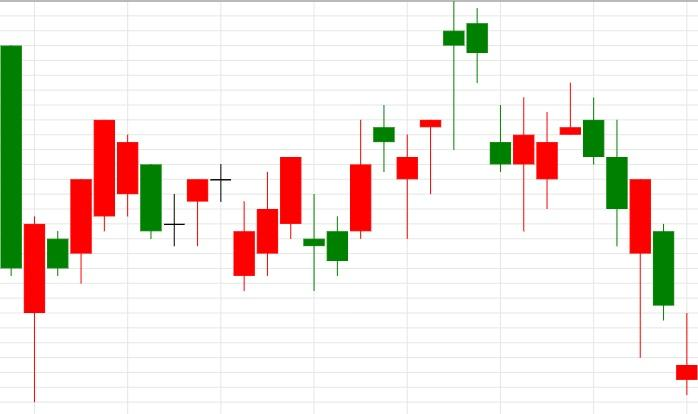bullish_engulfing_rise: (442, 0, 535, 231)
morning_star_rise: (93, 120, 209, 247)
